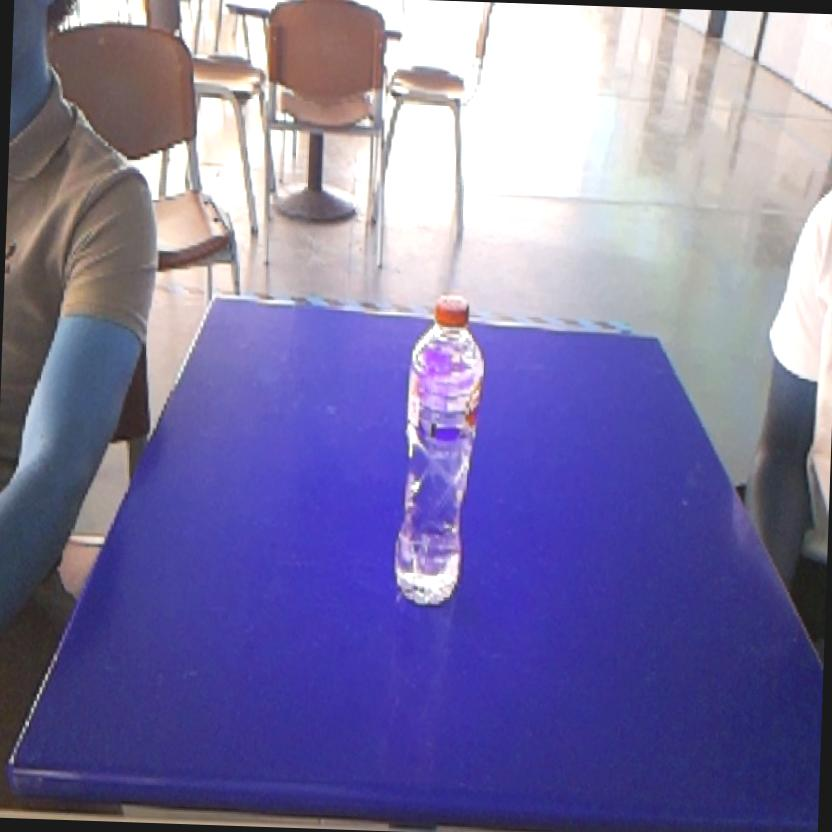good: (382, 288, 492, 618)
